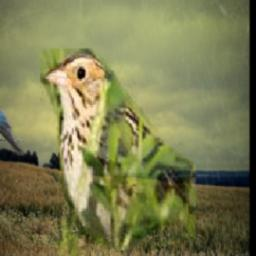Sparrow: (41, 50, 197, 256)
Swallow: (0, 101, 25, 157)
